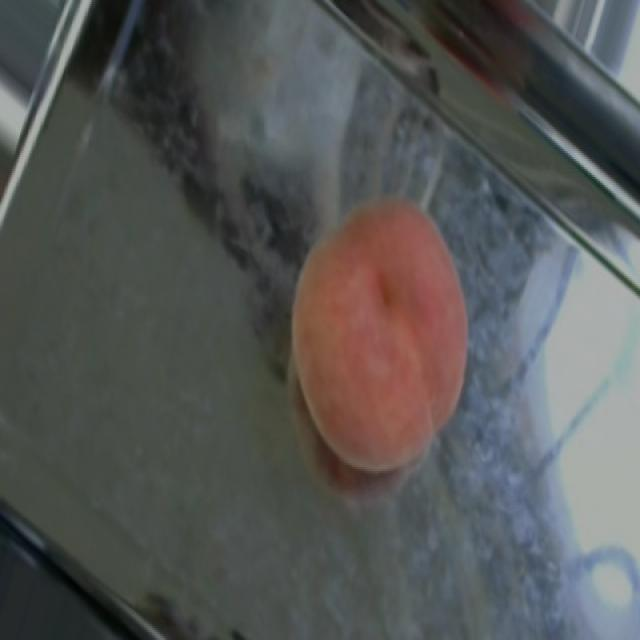Fruit: (245, 165, 499, 503)
